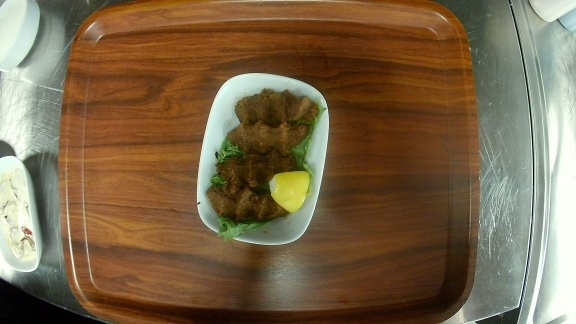cigkofte: (197, 73, 330, 246)
